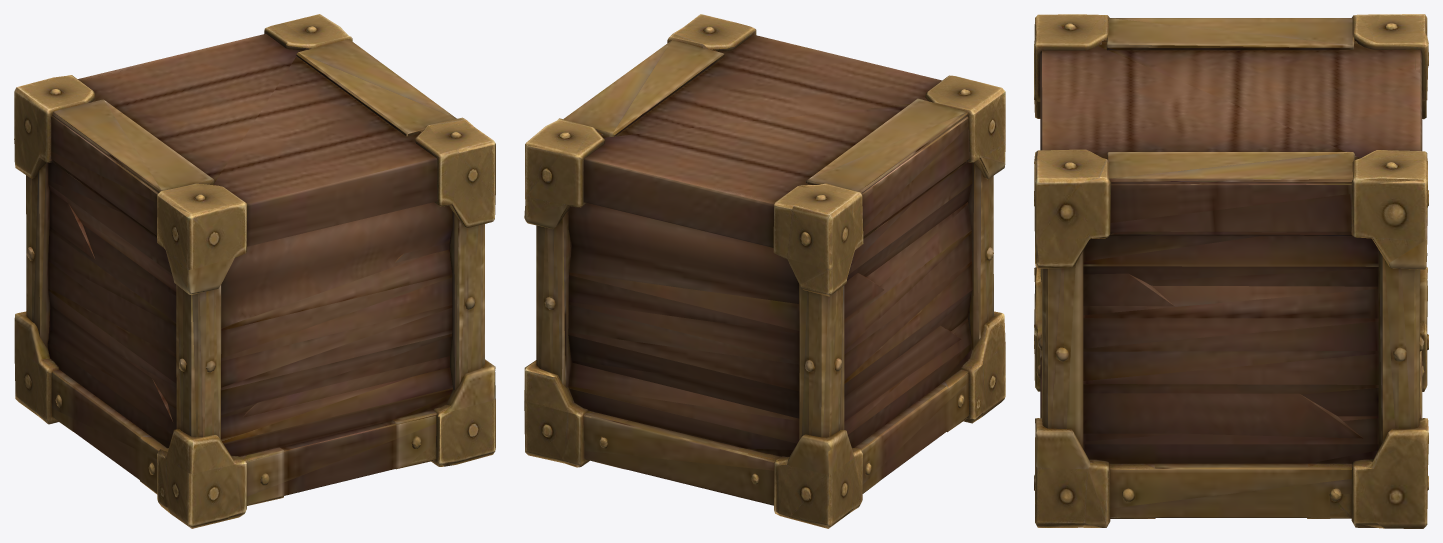
File: obstacle-crate.glb
3 views of the same model, side by side, from view 1: azimuth 30°, elevation 25°; view 2: azimuth 150°, elevation 25°; view 3: azimuth 270°, elevation 25° (orthographic). The views are drawn at different scales.
Parts seen in each view (by area): view 1: mesh_node; view 2: mesh_node; view 3: mesh_node.
Part boxes in pixels (x1,y1,x2,y2): mesh_node: (14,14,495,528); mesh_node: (524,14,1005,528); mesh_node: (1034,14,1428,528).
Bounding box in the file's own units: 1 × 0.9894 × 1.
1 material, 1 textured.
